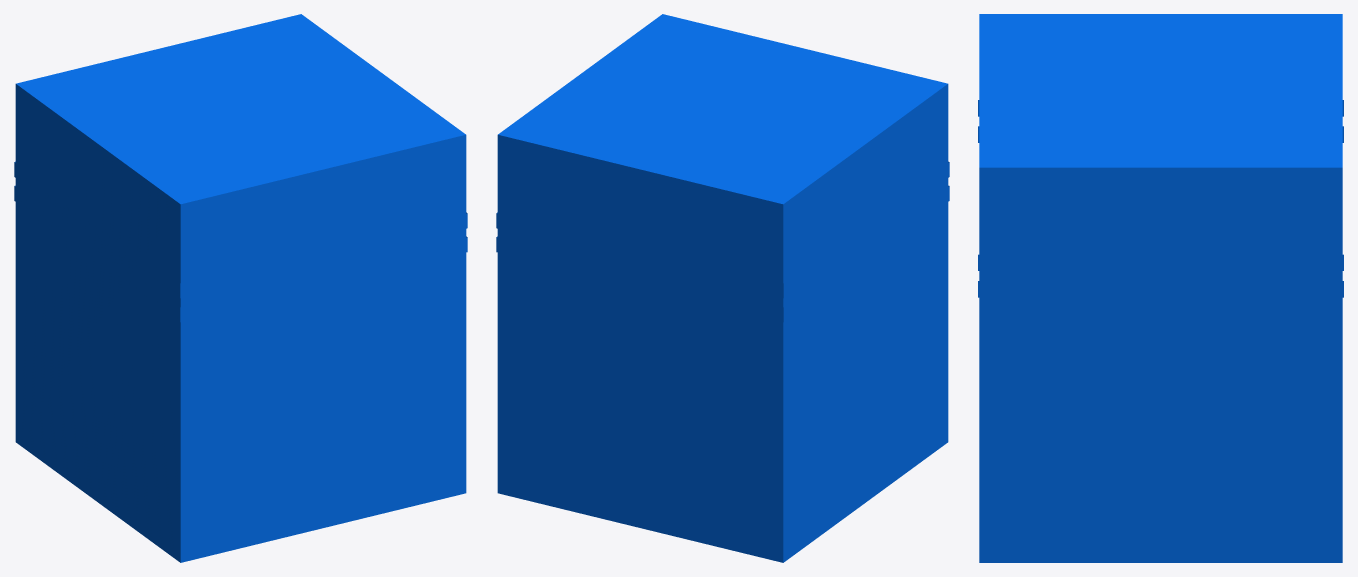
Rendered from tile_wall_block.fbx.
3 views of the same model, side by side, from view 1: azimuth 30°, elevation 25°; view 2: azimuth 150°, elevation 25°; view 3: azimuth 270°, elevation 25° (orthographic). The views are drawn at different scales.
Parts seen in each view (by area): view 1: wall_block002; view 2: wall_block002; view 3: wall_block002.
Boxes of the visible parts, x1,y1,x2,y2 form: wall_block002: (14, 14, 467, 562); wall_block002: (496, 14, 949, 562); wall_block002: (978, 14, 1343, 562).
Size of the model in its own units: 5.03 by 6 by 5.03.
